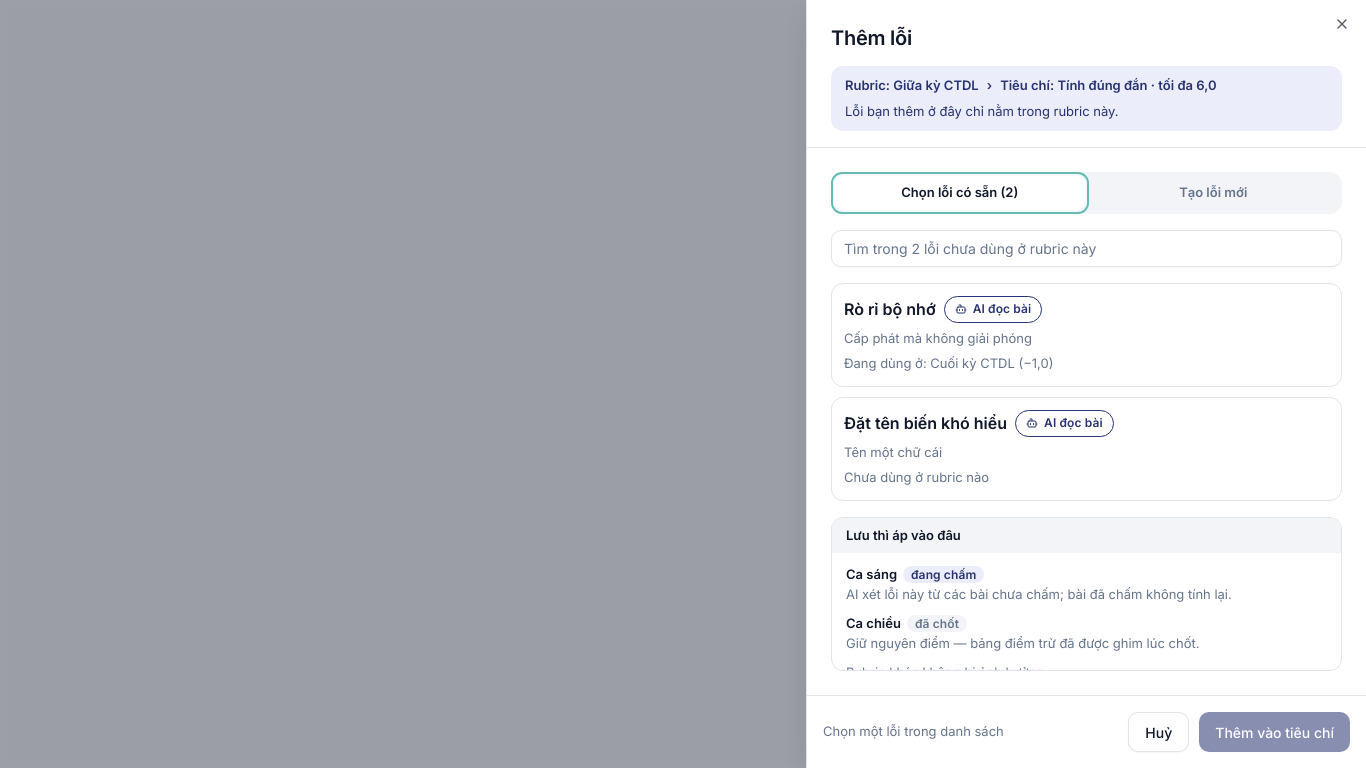
Test: AddErrorDrawer — chọn lỗi có sẵn › tìm không phân biệt dấu
The width and height of the screenshot is (1366, 768).
Type "ro ri" into the field named "Tìm lỗi" at (1086, 248), box [831, 230, 1342, 267]
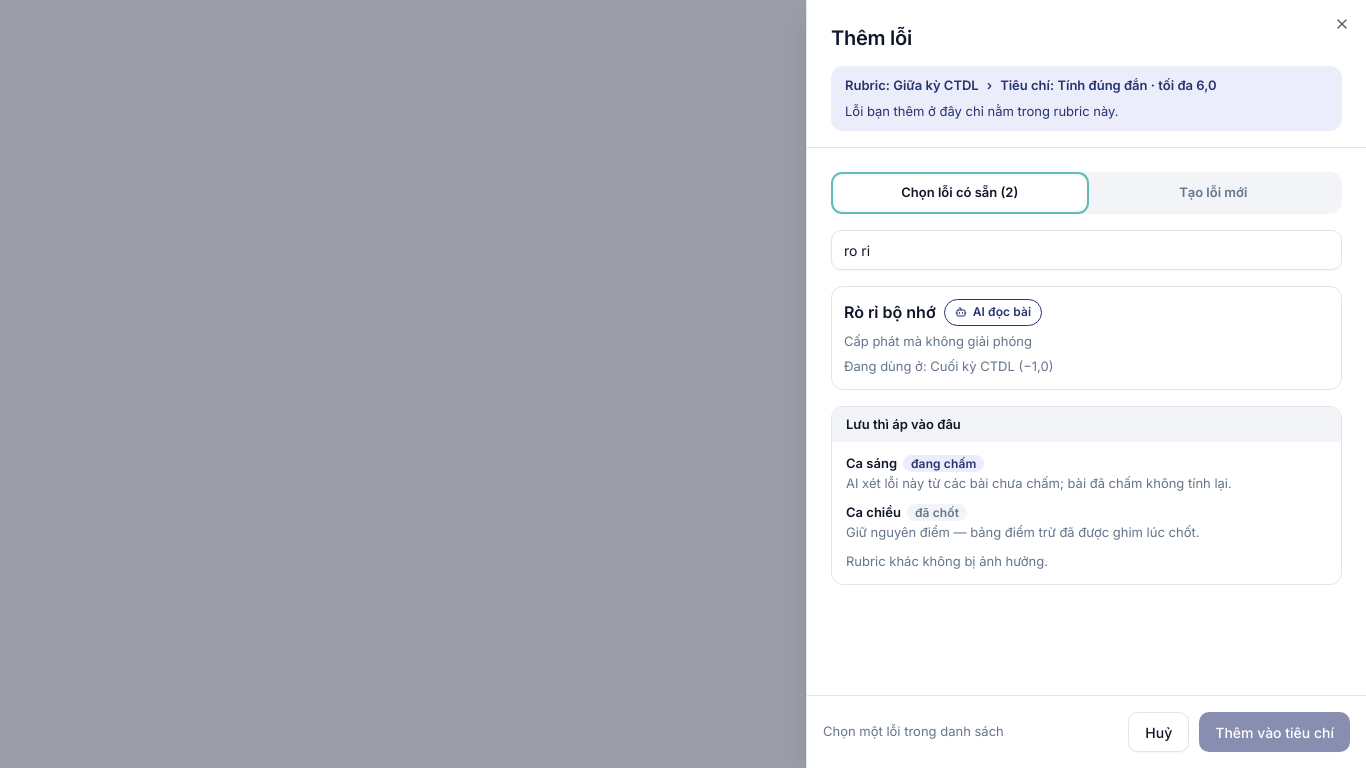
Expected: the button "Rò rỉ bộ nhớ" is shown, [831, 286, 1342, 390]
Expected: the button "Đặt tên biến" is gone
